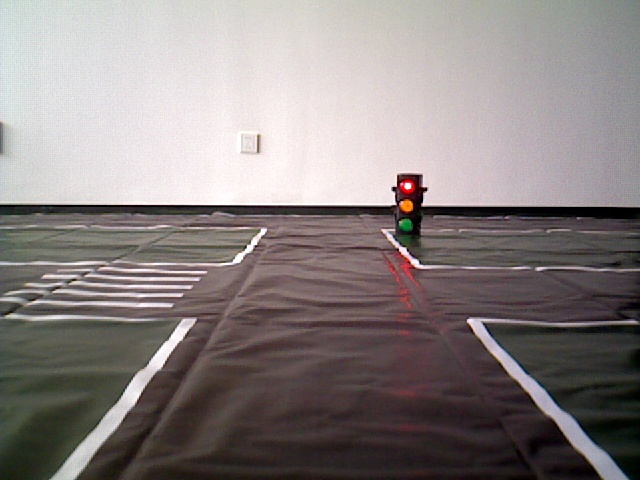red: (393, 177, 419, 230)
